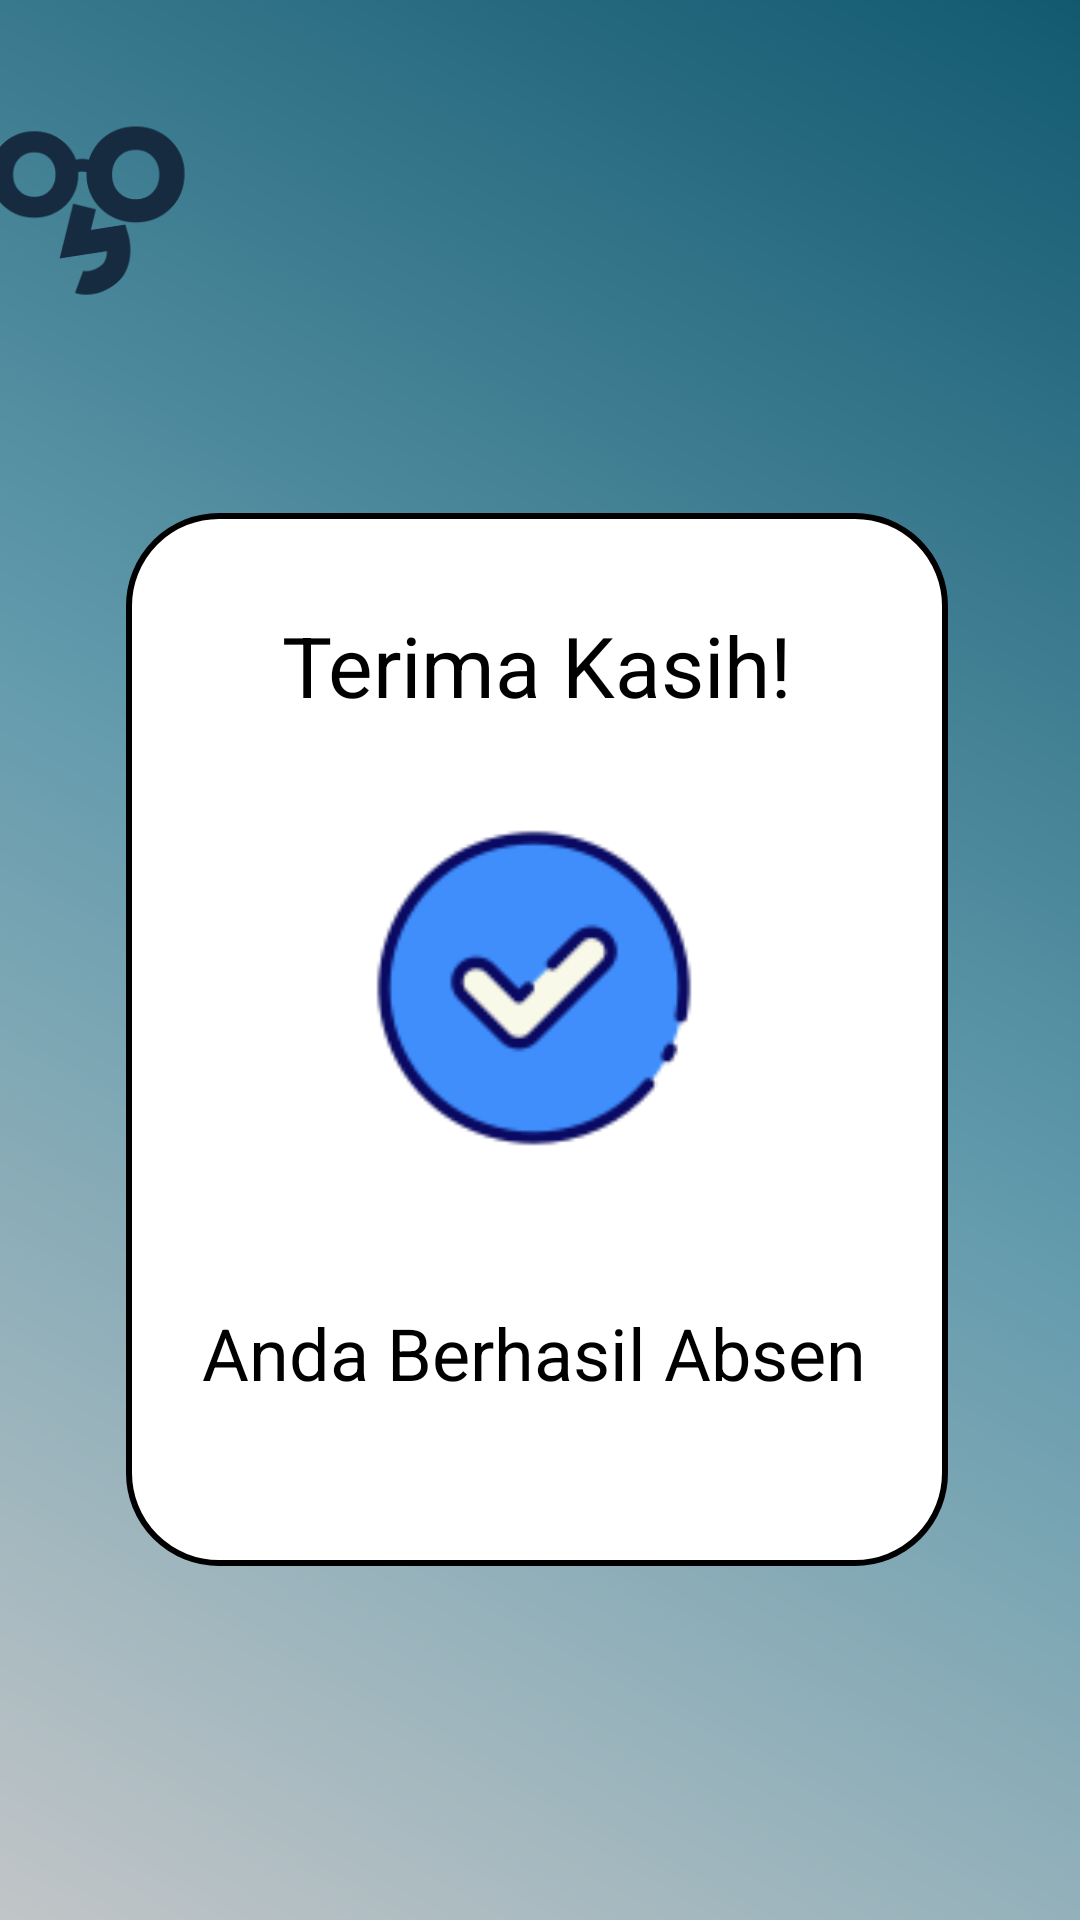

Named icons in this screenshot (1080px×1920px) and their bounding boxes, region(x1, y1, x2, y2):
cheklist biru: region(376, 830, 692, 1146)
